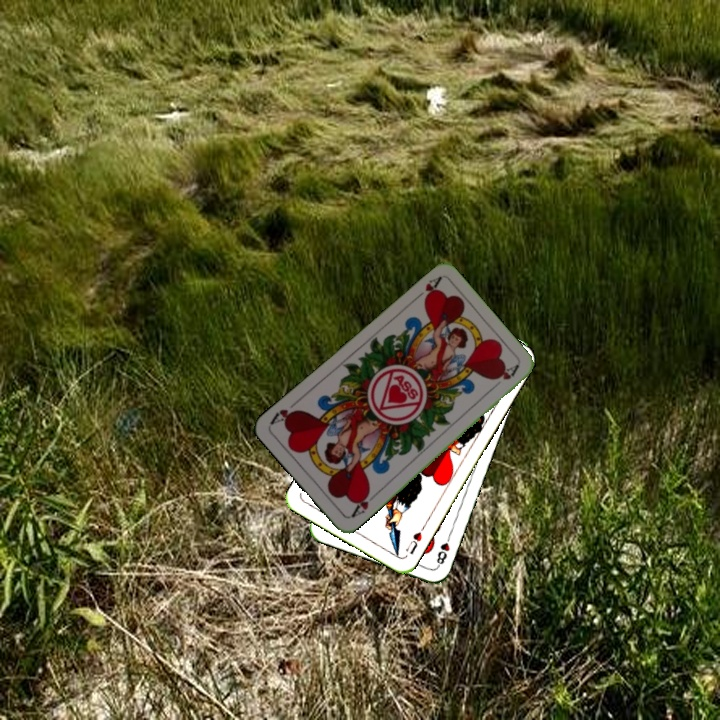H8: (432, 530, 453, 569)
HA: (347, 486, 380, 521), (409, 273, 444, 305)
HU: (401, 522, 427, 557)
